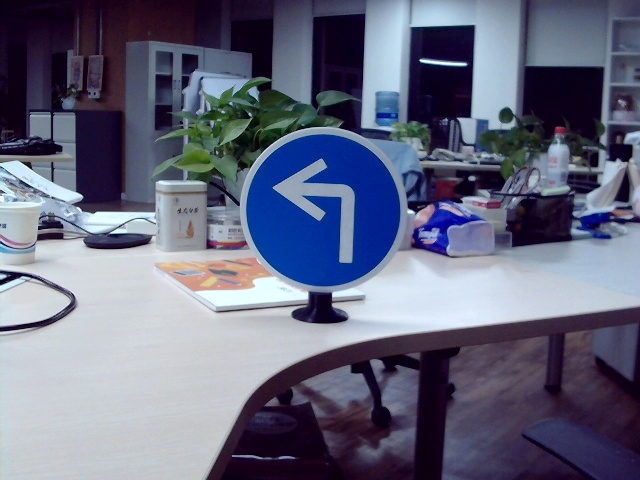turn_left: (278, 159, 361, 268)
